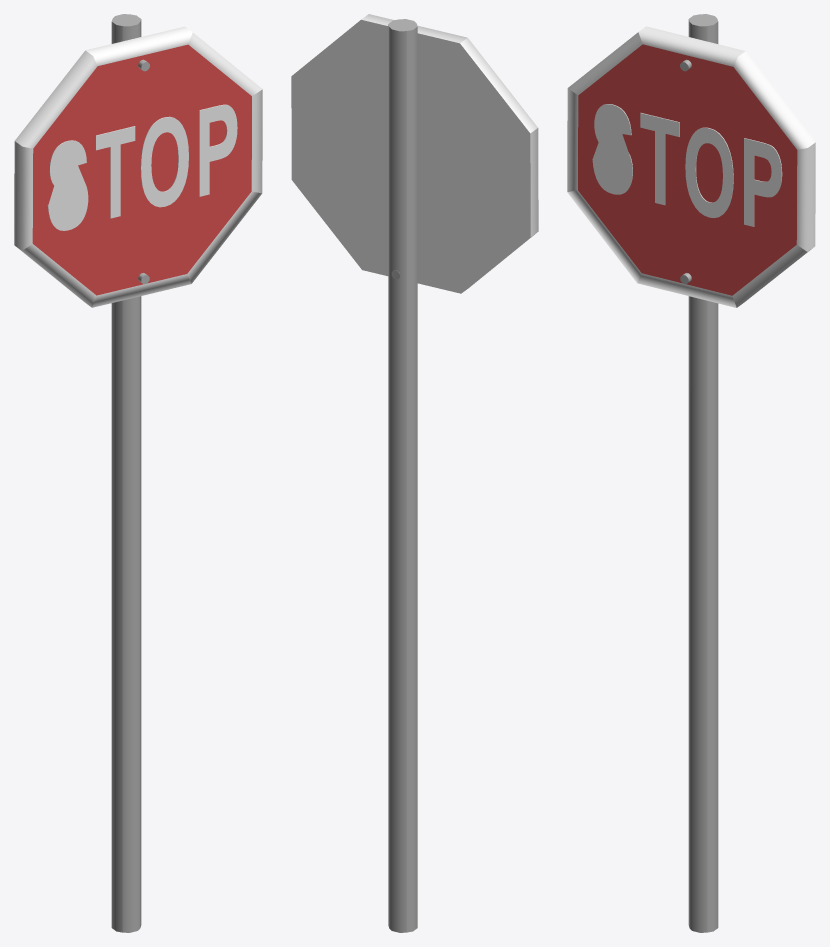
The model's file is Stop Sign.fbx.
3 views of the same model, side by side, from view 1: azimuth 30°, elevation 25°; view 2: azimuth 150°, elevation 25°; view 3: azimuth 330°, elevation 25° (orthographic).
Parts seen in each view (by area): view 1: pCube6; view 2: pCube6; view 3: pCube6.
Boxes of the visible parts, bbox=[...] form: pCube6: bbox=[14, 14, 262, 932]; pCube6: bbox=[291, 14, 538, 932]; pCube6: bbox=[567, 14, 815, 932].
Size of the model in its own units: 7.01 by 25.2 by 1.34.
